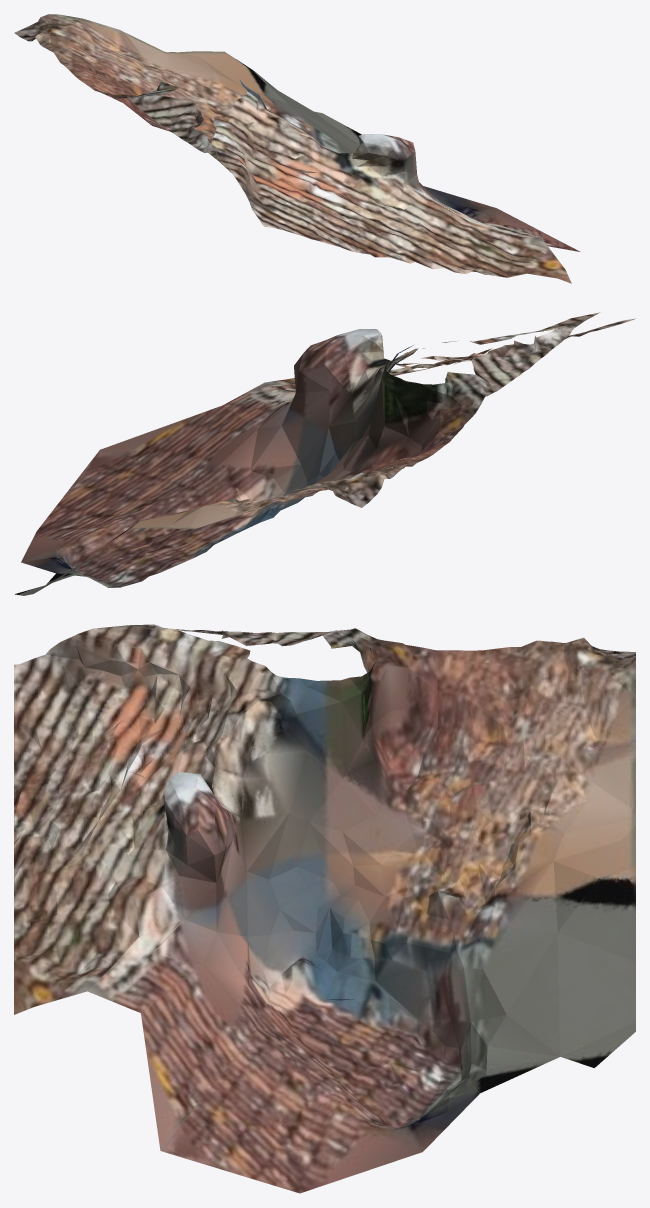
3 views of the same model, one above another, from view 1: azimuth 30°, elevation 25°; view 2: azimuth 150°, elevation 25°; view 3: azimuth 270°, elevation 25° (orthographic). The views are drawn at different scales.
Bounding box in the file's own units: 6.67 × 3.68 × 6.7.
Materials: 2 (2 with a texture image).
